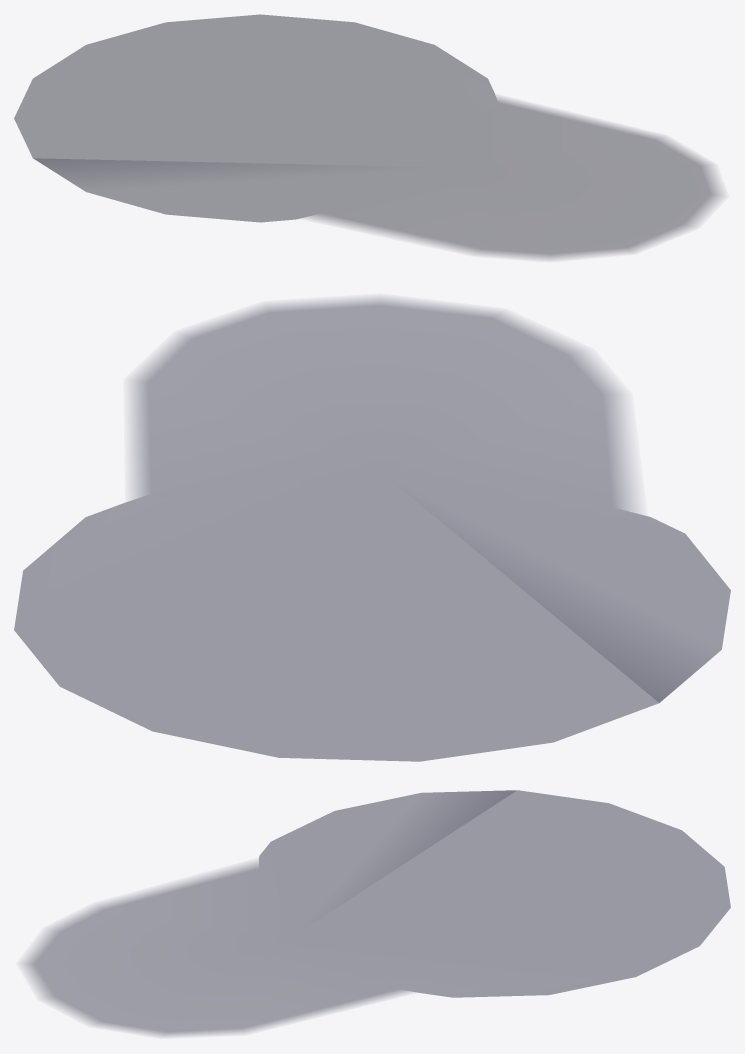
3 views of the same model, one above another, from view 1: azimuth 30°, elevation 25°; view 2: azimuth 150°, elevation 25°; view 3: azimuth 270°, elevation 25° (orthographic). The views are drawn at different scales.
Parts seen in each view (by area): view 1: Joint_0_Object_0; view 2: Joint_0_Object_0; view 3: Joint_0_Object_0.
Part boxes in pixels (left/top/right/bottom): Joint_0_Object_0: left=14, top=14, right=722, bottom=259; Joint_0_Object_0: left=14, top=297, right=730, bottom=761; Joint_0_Object_0: left=22, top=790, right=730, bottom=1036.
Bounding box in the file's own units: 399 × 0 × 485.
Materials: 1 (1 with a texture image).
